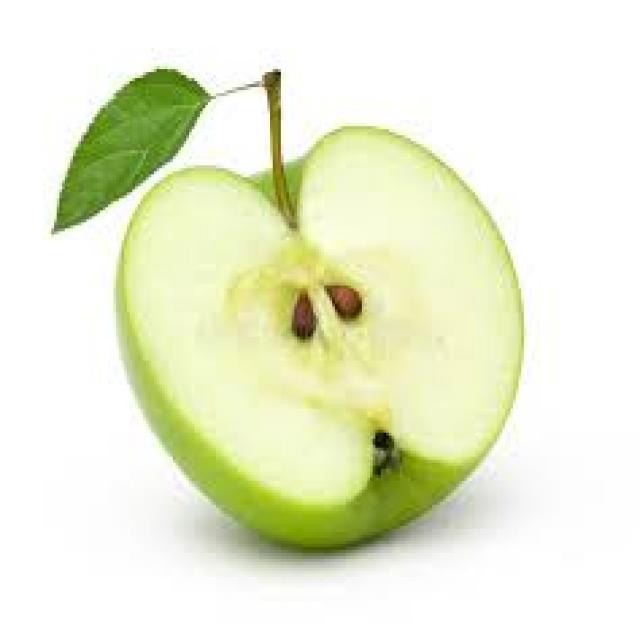Apple: (107, 121, 529, 542)
